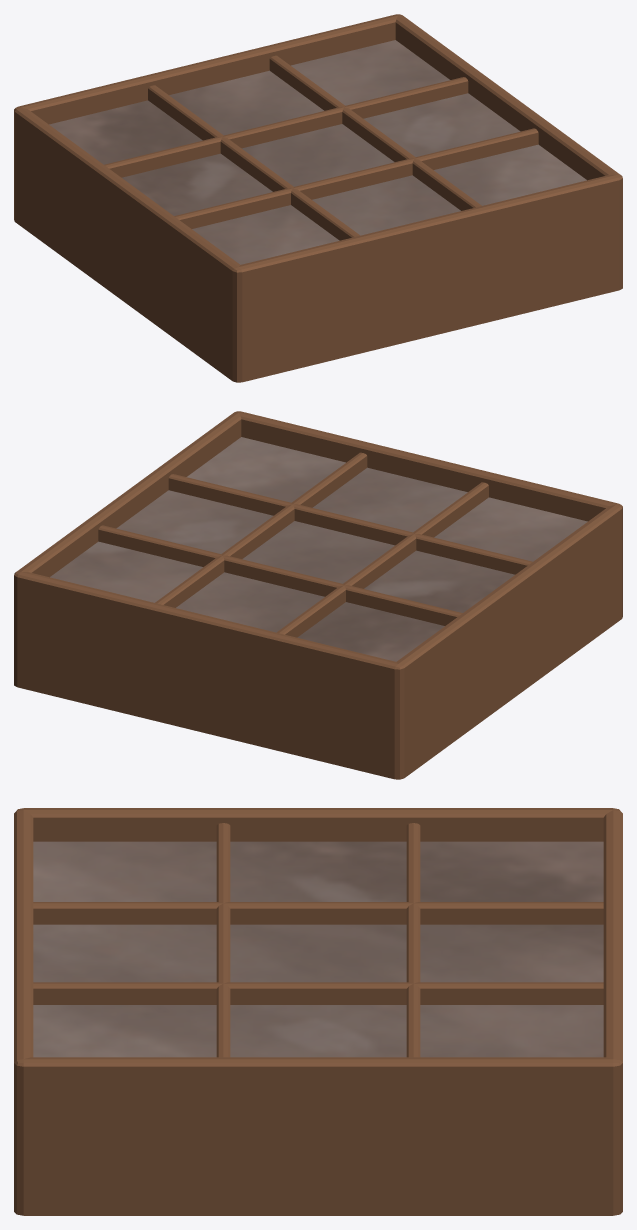
The model's file is Pots.glb.
3 renders of one model, top to bottom at view 1: azimuth 30°, elevation 25°; view 2: azimuth 150°, elevation 25°; view 3: azimuth 270°, elevation 25°, orthographic. The views are drawn at different scales.
Visible parts, largest first — view 1: Cube; view 2: Cube; view 3: Cube.
Boxes of the visible parts, x1,y1,x2,y2 form: Cube: [14, 14, 622, 382]; Cube: [14, 411, 622, 779]; Cube: [14, 808, 622, 1215].
Bounding box in the file's own units: 3.23 × 0.8924 × 3.23.
2 materials, 1 textured.
